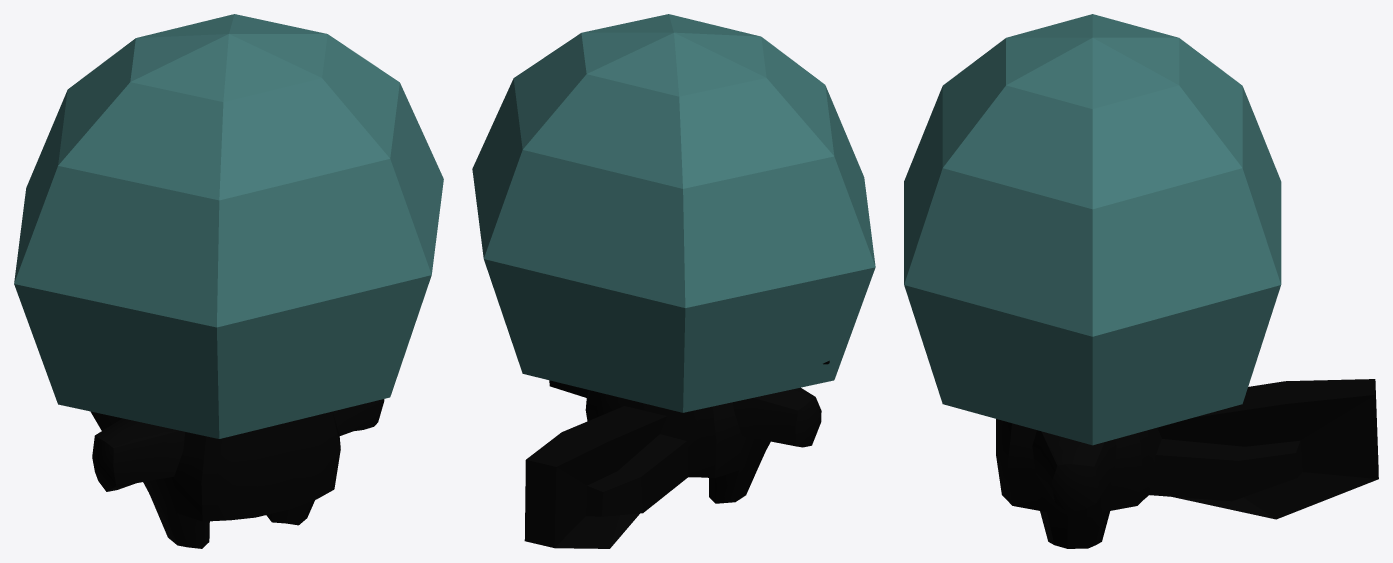
The model's file is axolotl_pop.fbx.
3 renders of one model, left to right at view 1: azimuth 30°, elevation 25°; view 2: azimuth 150°, elevation 25°; view 3: azimuth 270°, elevation 25°, orthographic. The views are drawn at different scales.
Visible parts, largest first — view 1: pSphere1, polySurface1; view 2: pSphere1, polySurface1; view 3: pSphere1, polySurface1.
Part boxes in pixels (x1,y1,x2,y2): pSphere1: [14, 14, 443, 438]; polySurface1: [90, 399, 384, 548]; pSphere1: [472, 14, 875, 412]; polySurface1: [524, 360, 829, 548]; pSphere1: [904, 14, 1281, 445]; polySurface1: [996, 379, 1378, 548].
Bounding box in the file's own units: 5.52 × 5.97 × 5.34.
